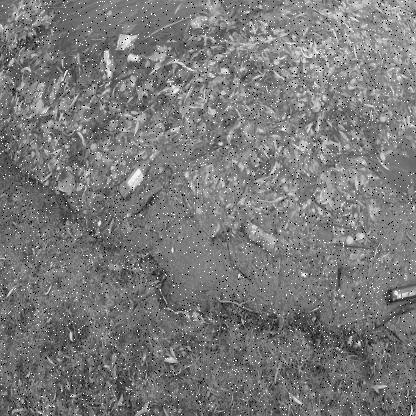glass: (118, 149, 160, 201)
metal: (386, 282, 415, 305)
plastic: (240, 221, 278, 252)
